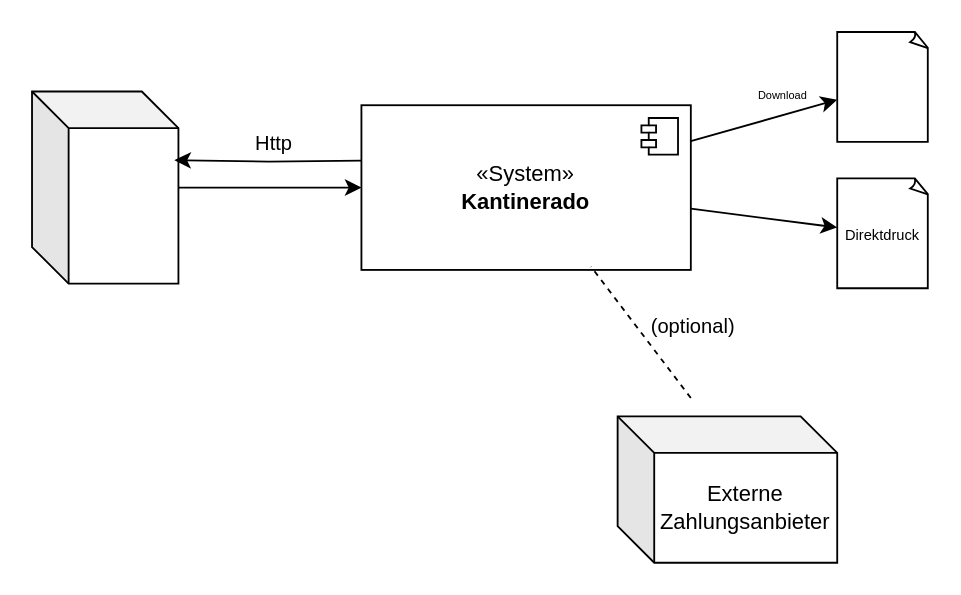
The diagram is 961 pixels wide and 595 high, and some of its shapes have lost their labels. Each missing label, with the box of its shape:
Browser: (30, 90, 178, 284)
PDF: (835, 30, 929, 142)
